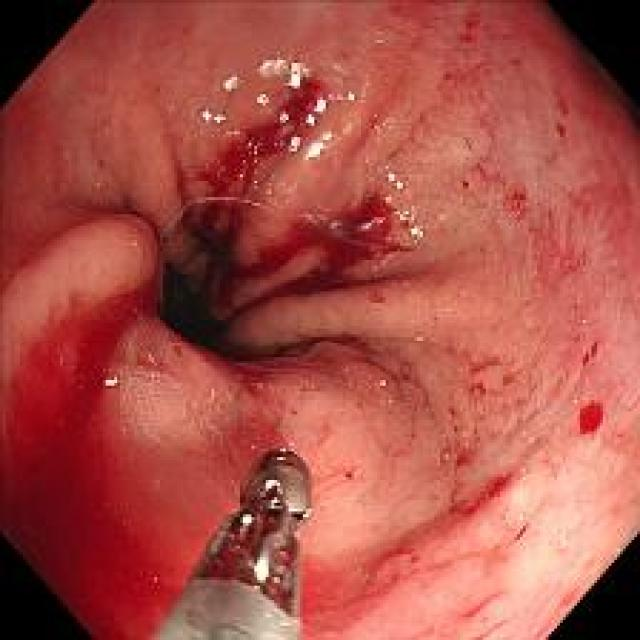blood: (9, 266, 286, 631), (248, 199, 391, 318), (189, 92, 305, 209)
contrast: (158, 234, 314, 366)
instrument: (136, 449, 324, 639)
specularity: (250, 45, 366, 165), (379, 160, 425, 242), (195, 101, 240, 141), (96, 366, 126, 395), (214, 66, 240, 95), (250, 550, 272, 582), (238, 511, 262, 539), (260, 471, 282, 499), (378, 376, 386, 386)
